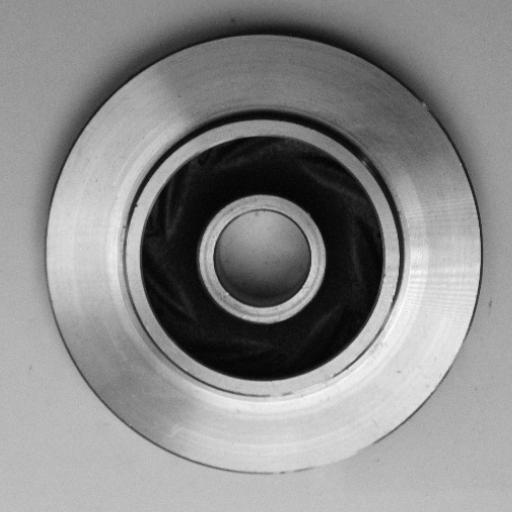unpolished_casting: (40, 28, 481, 479)
